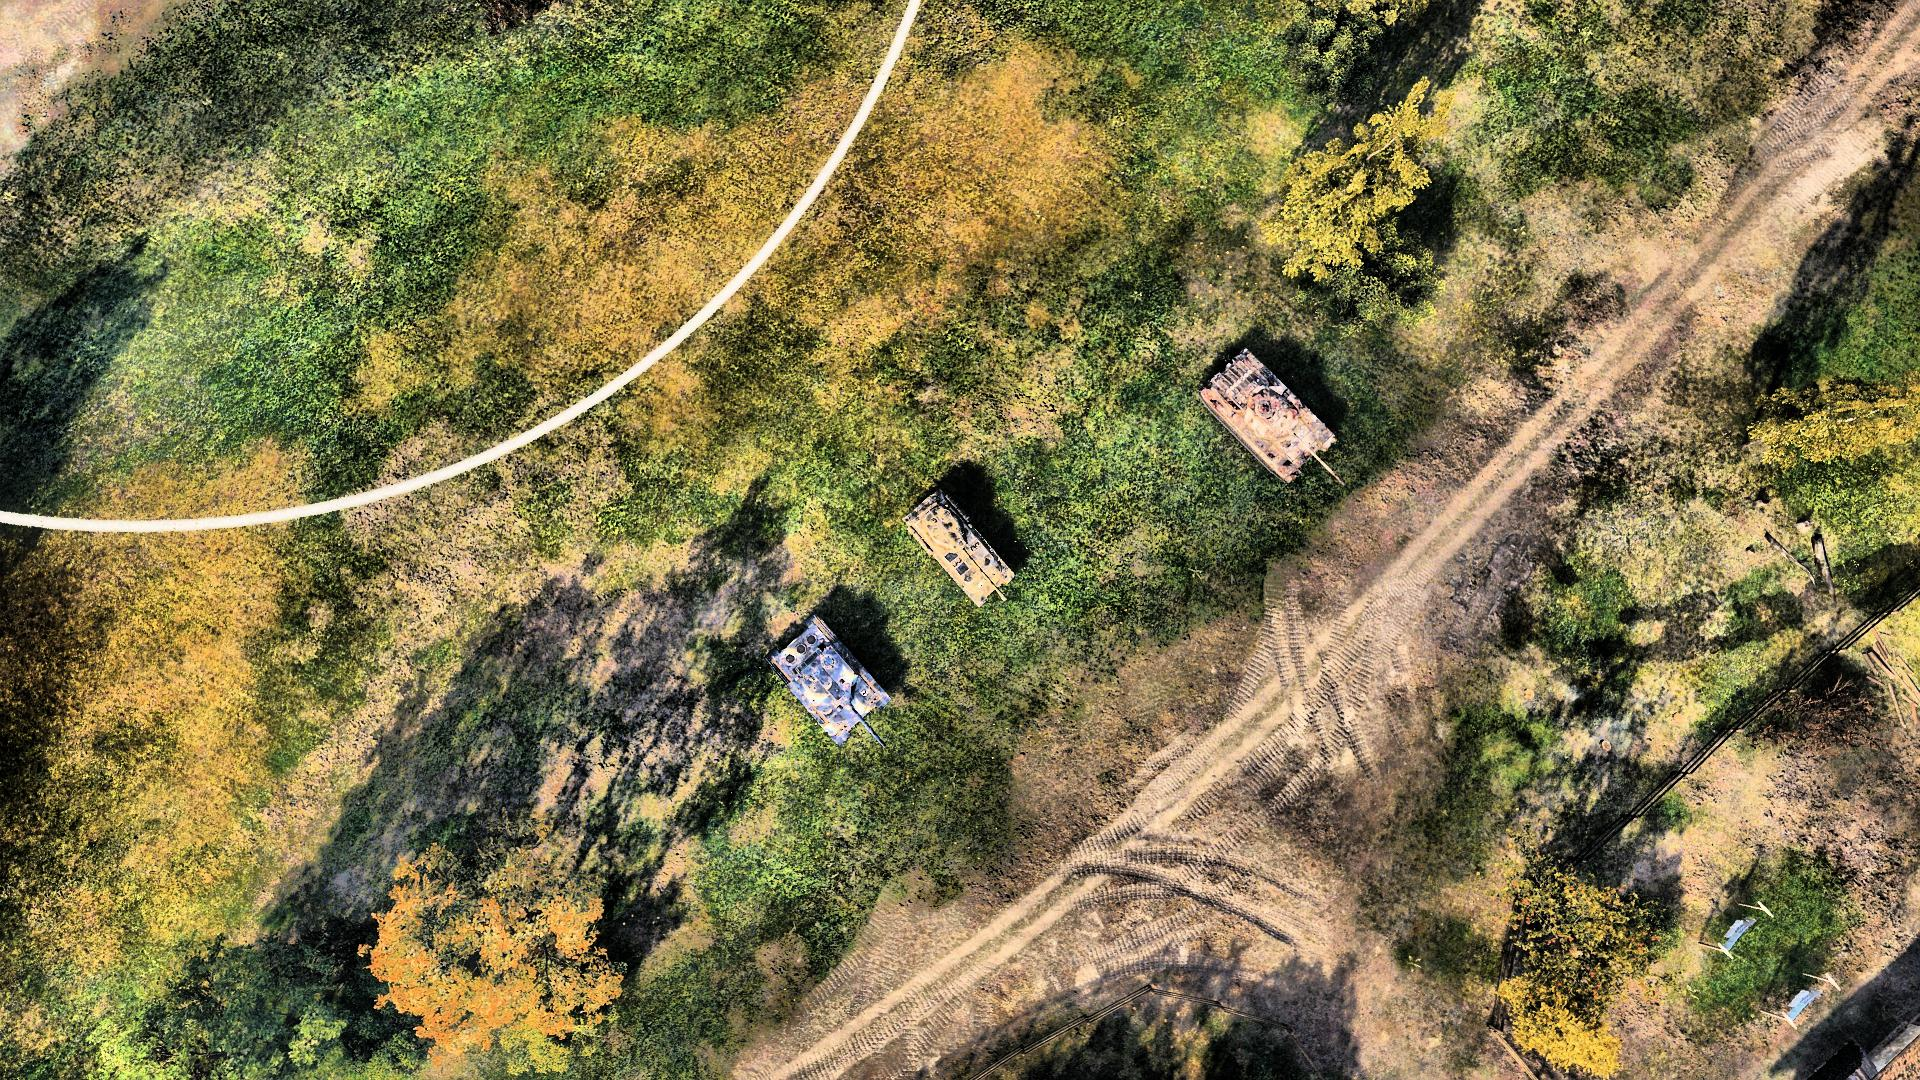military-vehicle: (1205, 348, 1345, 487), (769, 615, 891, 746), (905, 487, 1006, 607)
